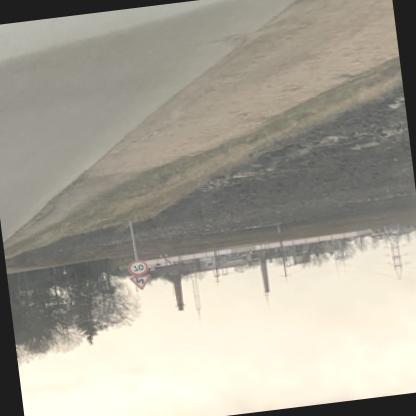speedlimit: (126, 260, 146, 276)
